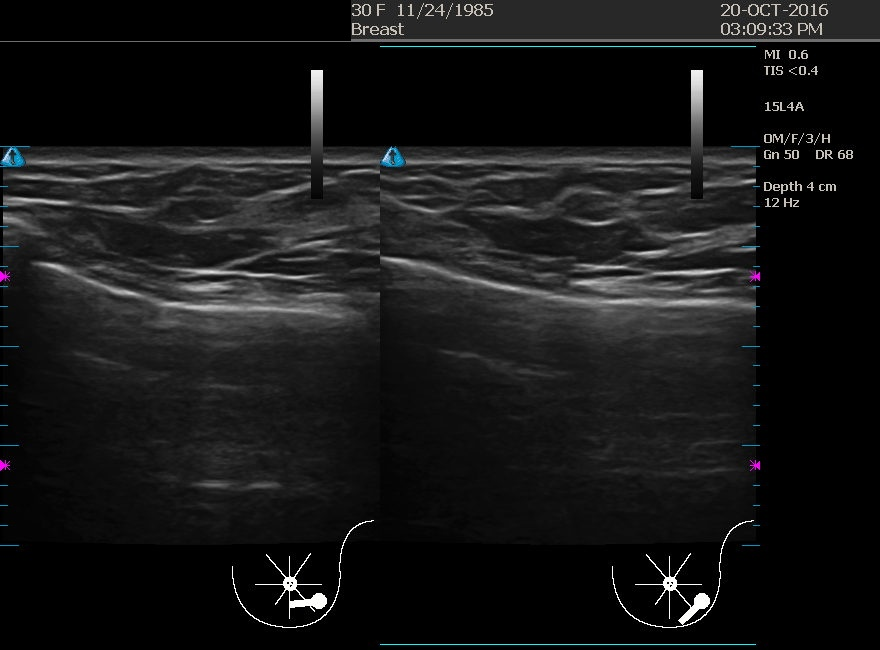BIRADS_3: (77, 151, 277, 351), (445, 150, 645, 350)
